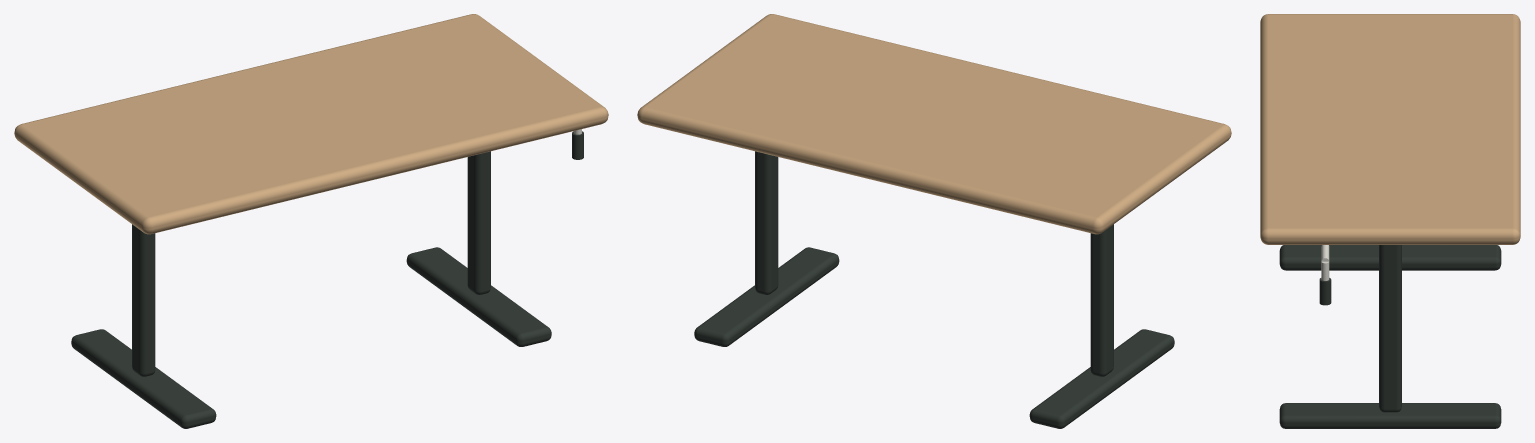
File: wooden-desk.glb
3 views of the same model, side by side, from view 1: azimuth 30°, elevation 25°; view 2: azimuth 150°, elevation 25°; view 3: azimuth 270°, elevation 25° (orthographic). The views are drawn at different scales.
Visible parts, largest first — view 1: wooden-desk; view 2: wooden-desk; view 3: wooden-desk.
Part boxes in pixels (x1,y1,x2,y2): wooden-desk: (14,14,608,428); wooden-desk: (637,14,1231,428); wooden-desk: (1260,14,1520,428).
Bounding box in the file's own units: 1.62 × 0.7525 × 0.8001.
